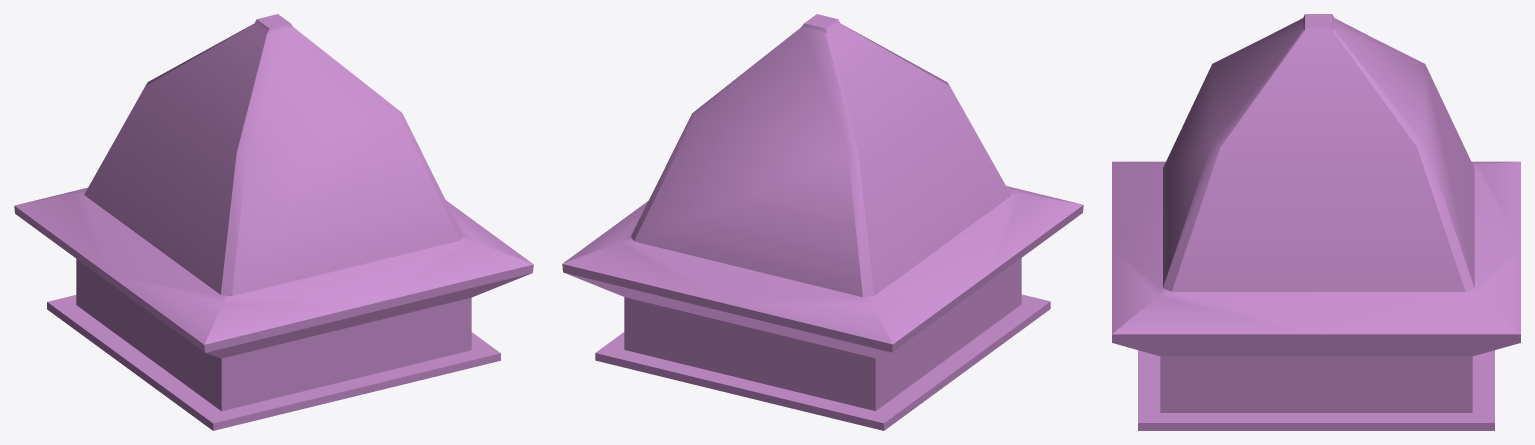
Rendered from Tower2_Top_B.fbx.
3 renders of one model, left to right at view 1: azimuth 30°, elevation 25°; view 2: azimuth 150°, elevation 25°; view 3: azimuth 270°, elevation 25°, orthographic. The views are drawn at different scales.
Parts seen in each view (by area): view 1: Tower2_Top_B; view 2: Tower2_Top_B; view 3: Tower2_Top_B.
Part boxes in pixels (<box>): Tower2_Top_B: <box>14,14,533,430</box>; Tower2_Top_B: <box>562,14,1083,430</box>; Tower2_Top_B: <box>1112,14,1520,430</box>.
Bounding box in the file's own units: 687 × 624 × 687.
